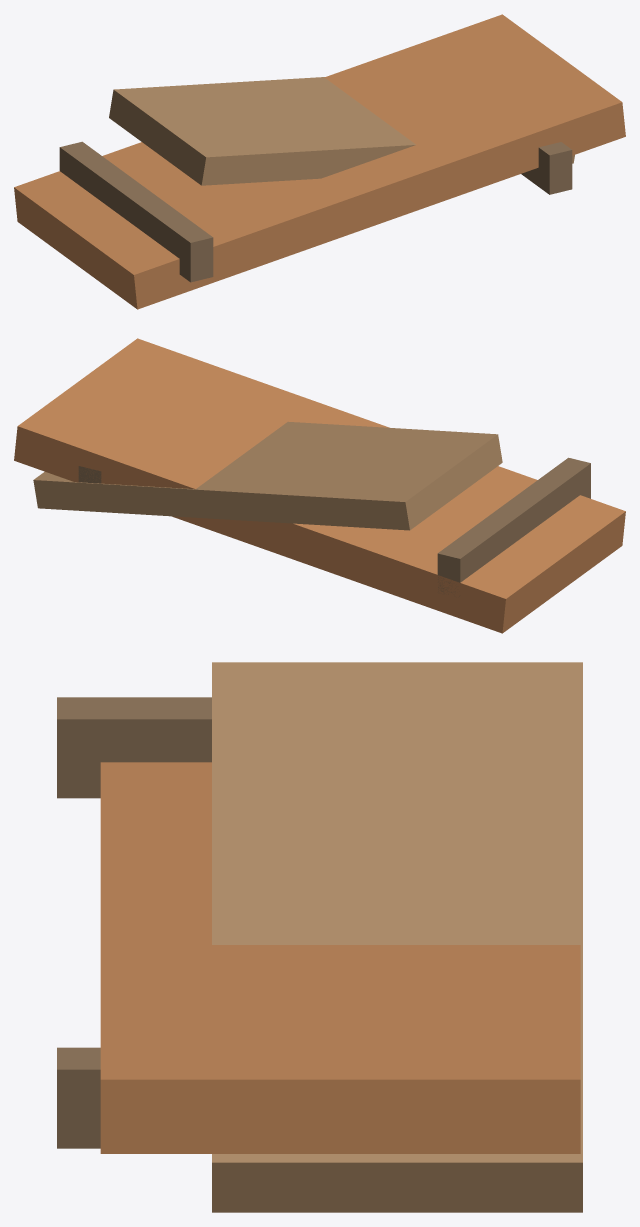
Rendered from mod_barricade_scrap.glb.
3 renders of one model, top to bottom at view 1: azimuth 30°, elevation 25°; view 2: azimuth 150°, elevation 25°; view 3: azimuth 270°, elevation 25°, orthographic. The views are drawn at different scales.
Parts seen in each view (by area): view 1: plate_a, plate_b, brace_l, brace_r; view 2: plate_a, plate_b, brace_l; view 3: plate_b, plate_a, brace_l, brace_r.
Boxes of the visible parts, <box> form: plate_a: <box>14,14,625,309</box>; plate_b: <box>109,77,574,185</box>; brace_l: <box>59,141,213,282</box>; brace_r: <box>521,142,572,194</box>; plate_a: <box>14,338,625,633</box>; plate_b: <box>33,421,502,530</box>; brace_l: <box>437,457,590,596</box>; plate_b: <box>212,662,582,1212</box>; plate_a: <box>100,762,580,1153</box>; brace_l: <box>57,697,211,798</box>; brace_r: <box>57,1047,100,1148</box>.
Size of the model in its own units: 2.6 by 0.548 by 1.21.
